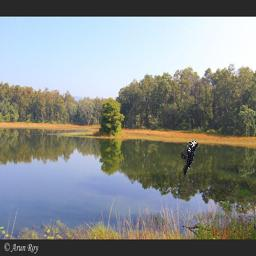Woodpecker: (180, 139, 198, 178)
